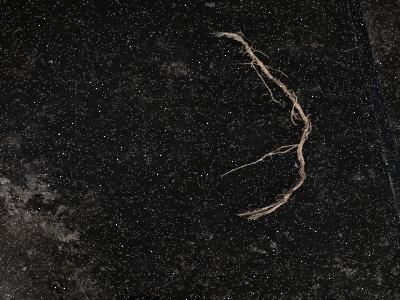Root: (214, 32, 311, 219)
